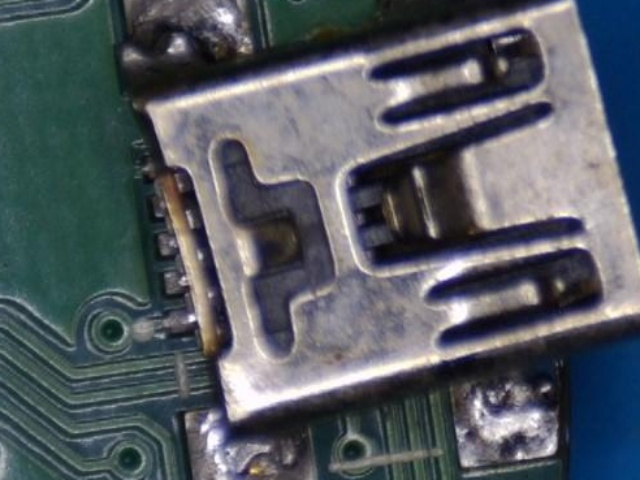pcb_defect: (115, 0, 640, 480)
